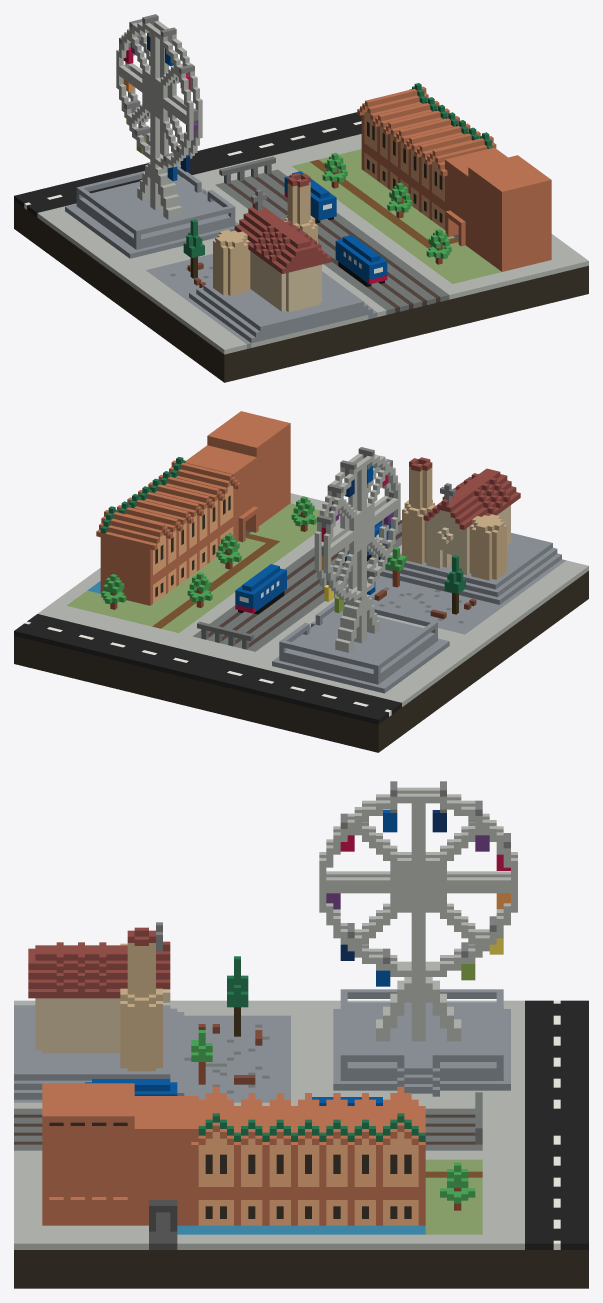
The model's file is nhood_4.glb.
3 views of the same model, one above another, from view 1: azimuth 30°, elevation 25°; view 2: azimuth 150°, elevation 25°; view 3: azimuth 270°, elevation 25° (orthographic). The views are drawn at different scales.
Parts seen in each view (by area): view 1: Untitled; view 2: Untitled; view 3: Untitled.
Boxes of the visible parts, box(x1,y1,x2,y2) form: Untitled: box(14, 14, 588, 382); Untitled: box(14, 411, 588, 752); Untitled: box(14, 781, 588, 1288).
Bounding box in the file's own units: 8.1 × 4.9 × 8.1.
1 material, 1 textured.
